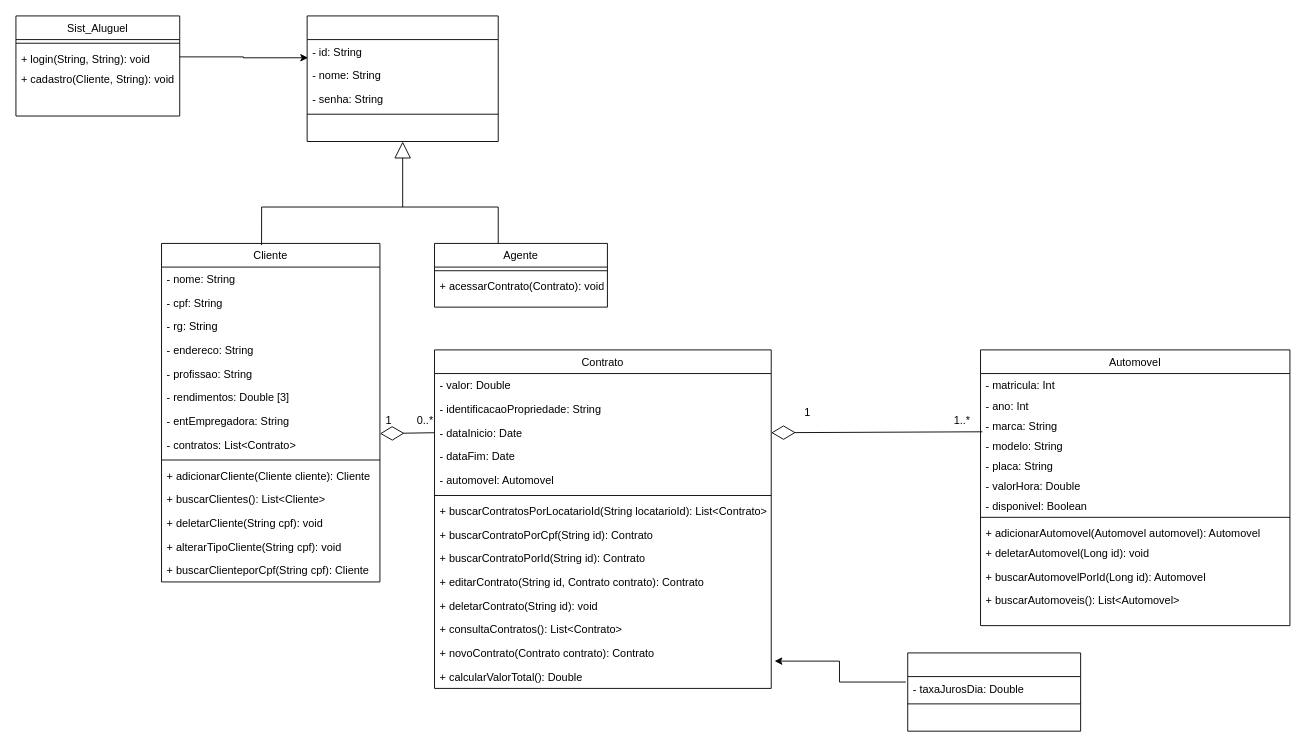
The diagram is 1306 pixels wide and 747 high, and some of its shapes have lost their labels. The box of each missing label's shape, as (x1, y1, x2, y2) in pixels:
Contrato_Credito: (907, 652, 1081, 731)
Usuario: (306, 15, 498, 142)
